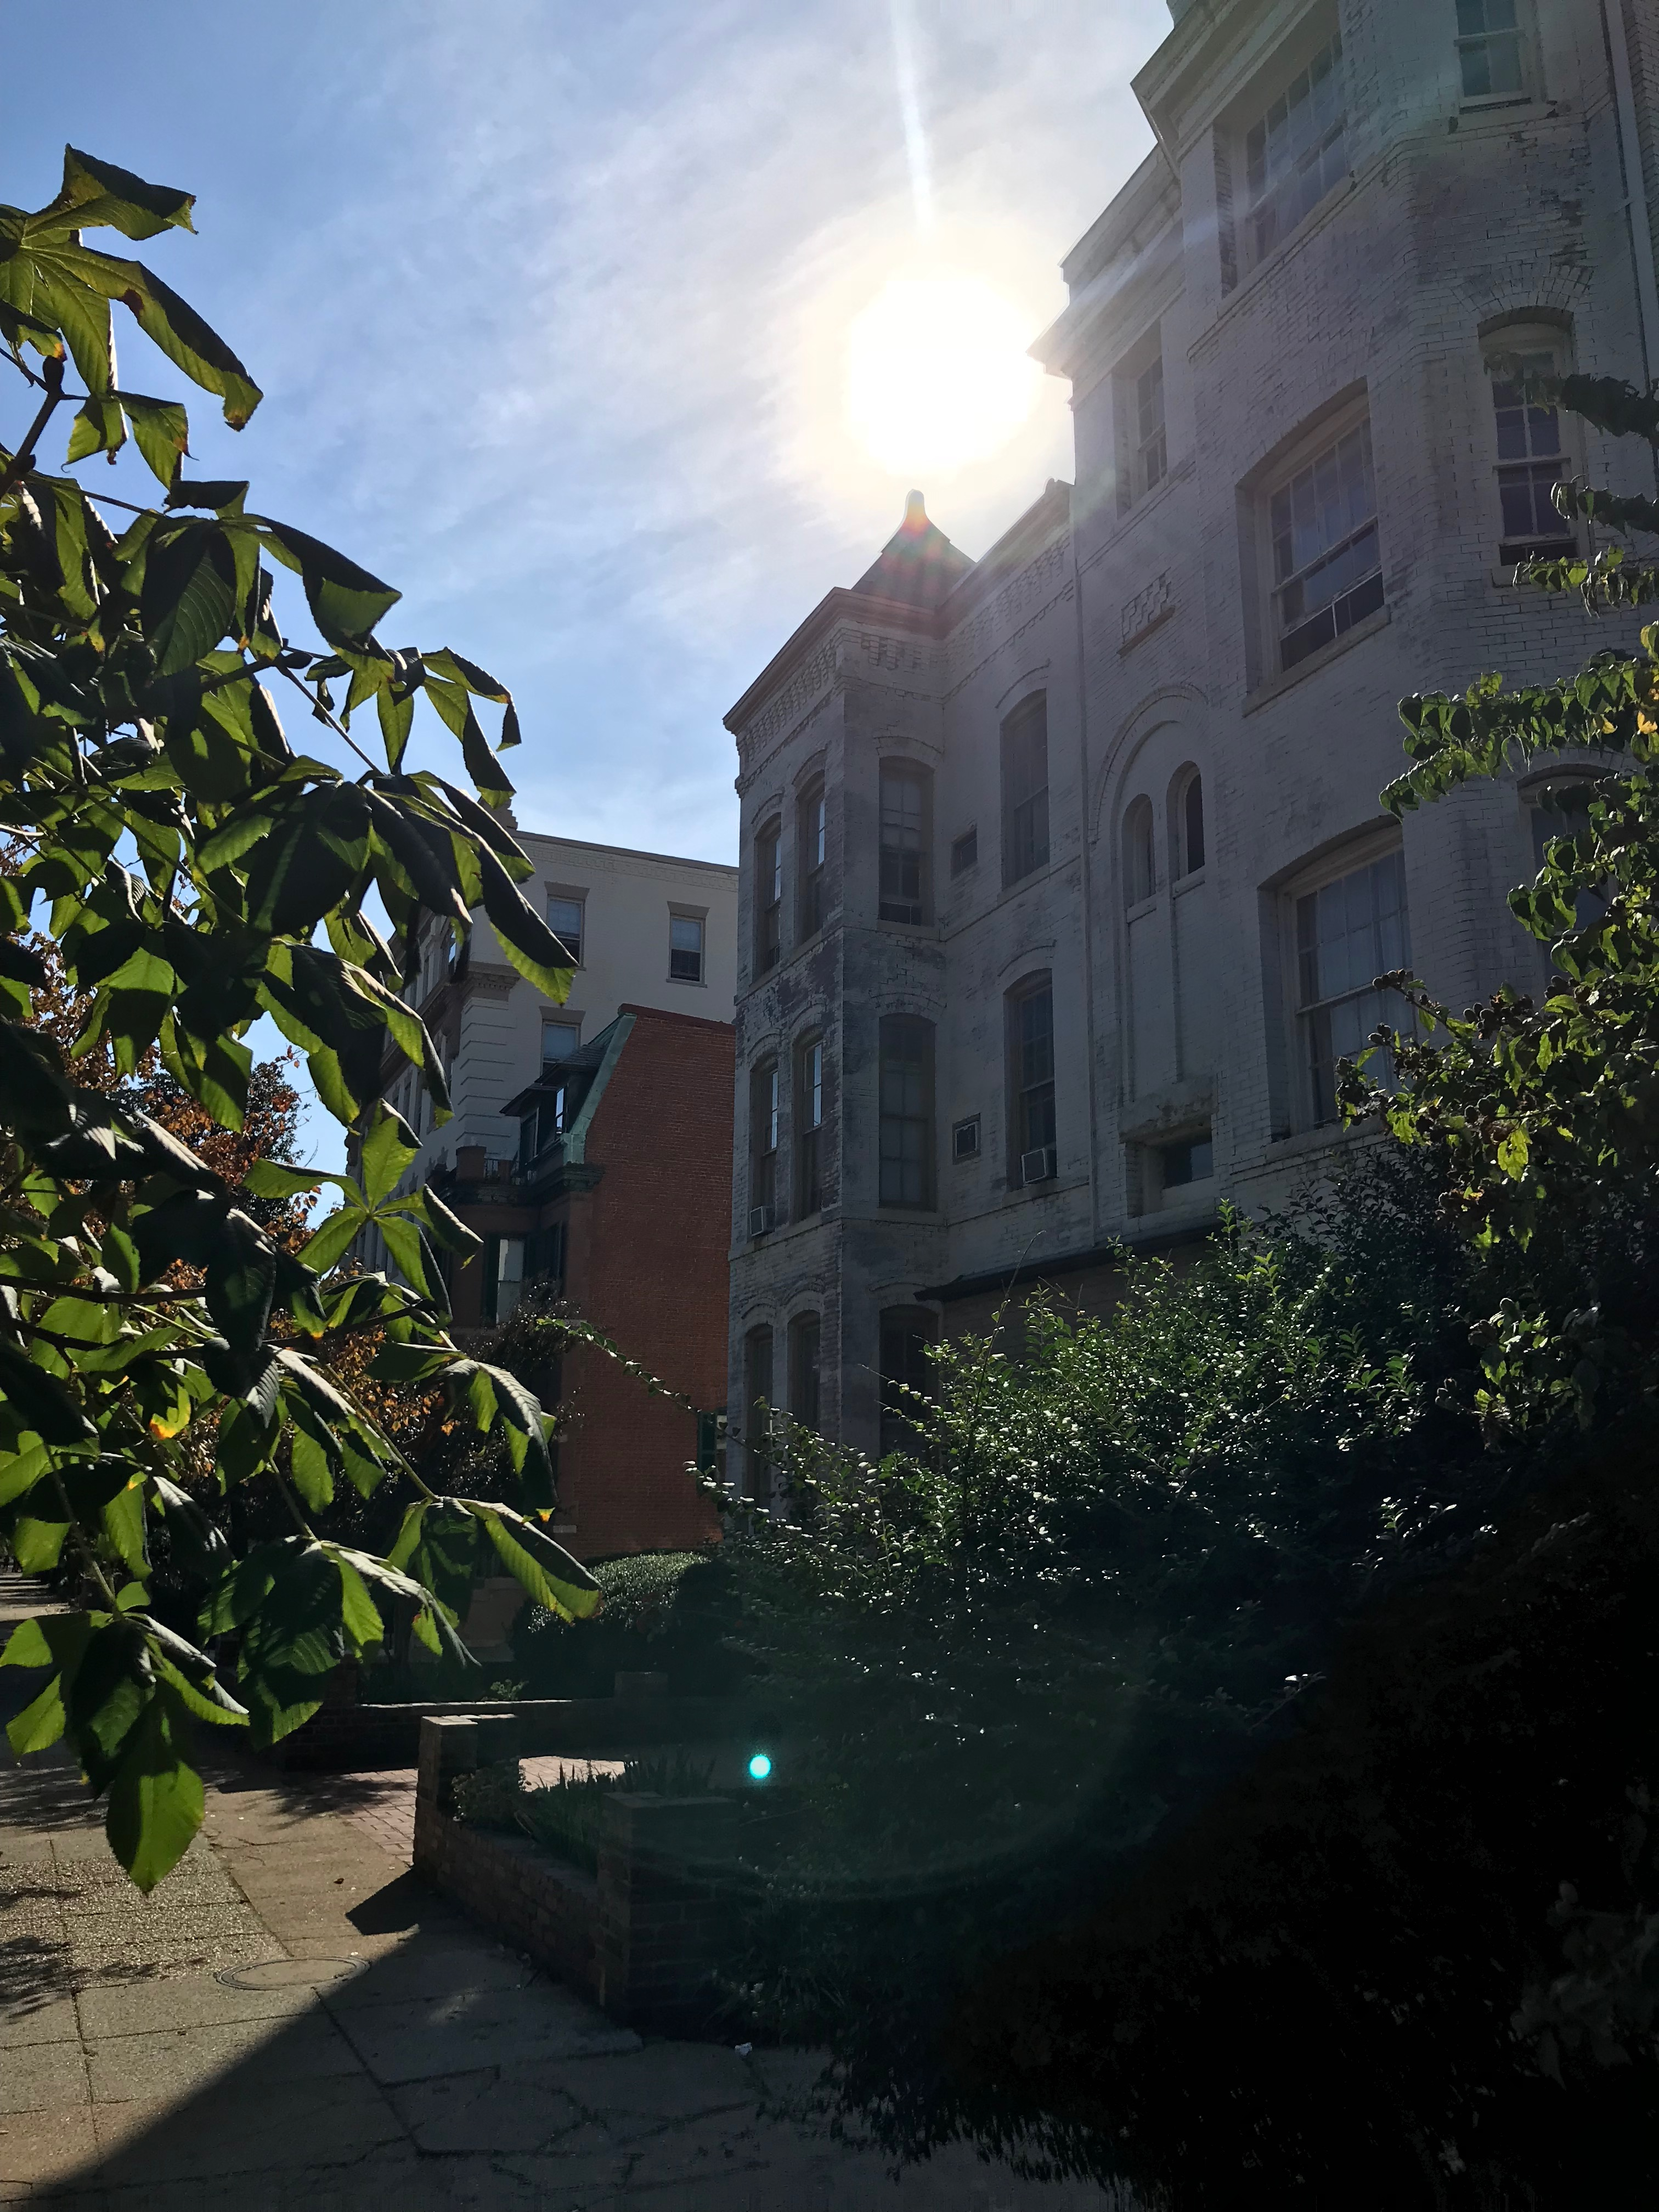flare: (741, 1745, 779, 1787)
